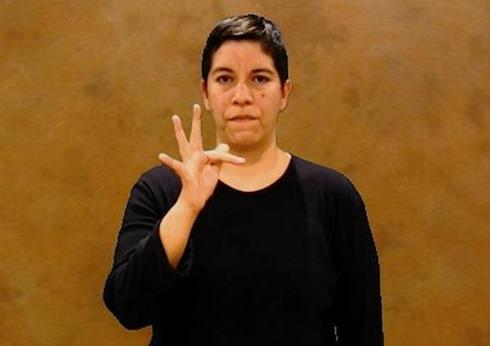F: (147, 97, 260, 222)
